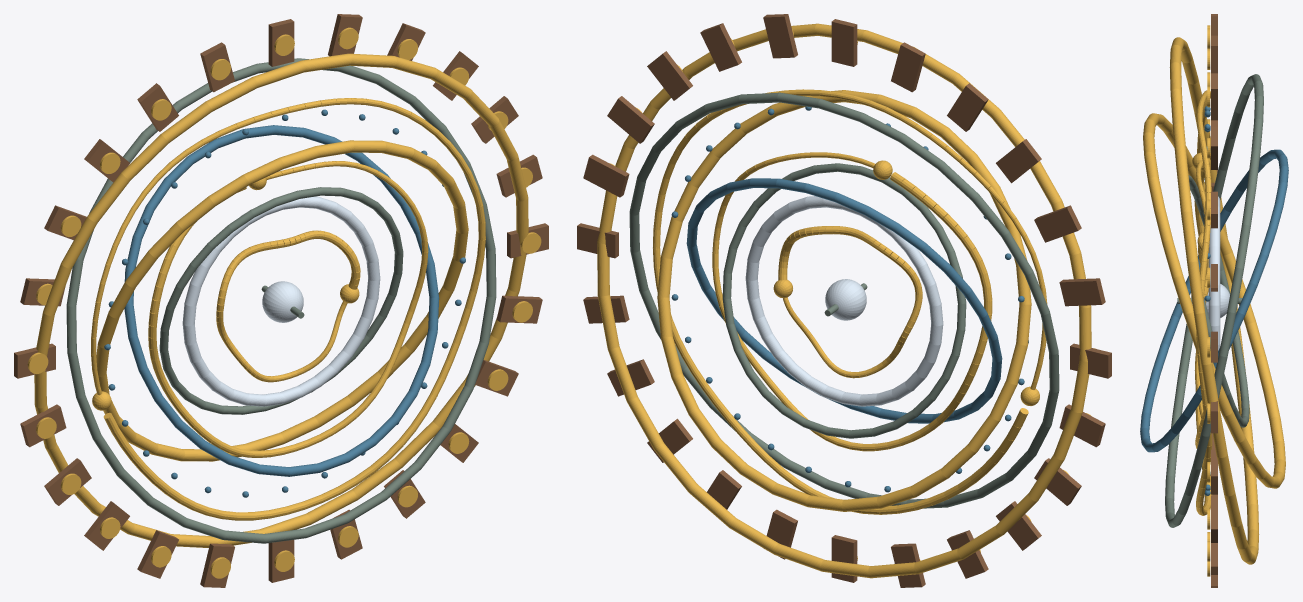
The model's file is huntianyi_ar.glb.
3 views of the same model, side by side, from view 1: azimuth 30°, elevation 25°; view 2: azimuth 150°, elevation 25°; view 3: azimuth 270°, elevation 25° (orthographic). The views are drawn at different scales.
Visible parts, largest first — view 1: world; view 2: world; view 3: world.
Boxes of the visible parts, x1,y1,x2,y2 form: world: [14, 14, 548, 587]; world: [577, 14, 1111, 587]; world: [1140, 14, 1288, 587].
Size of the model in its own units: 10.02 by 10.02 by 2.6.
